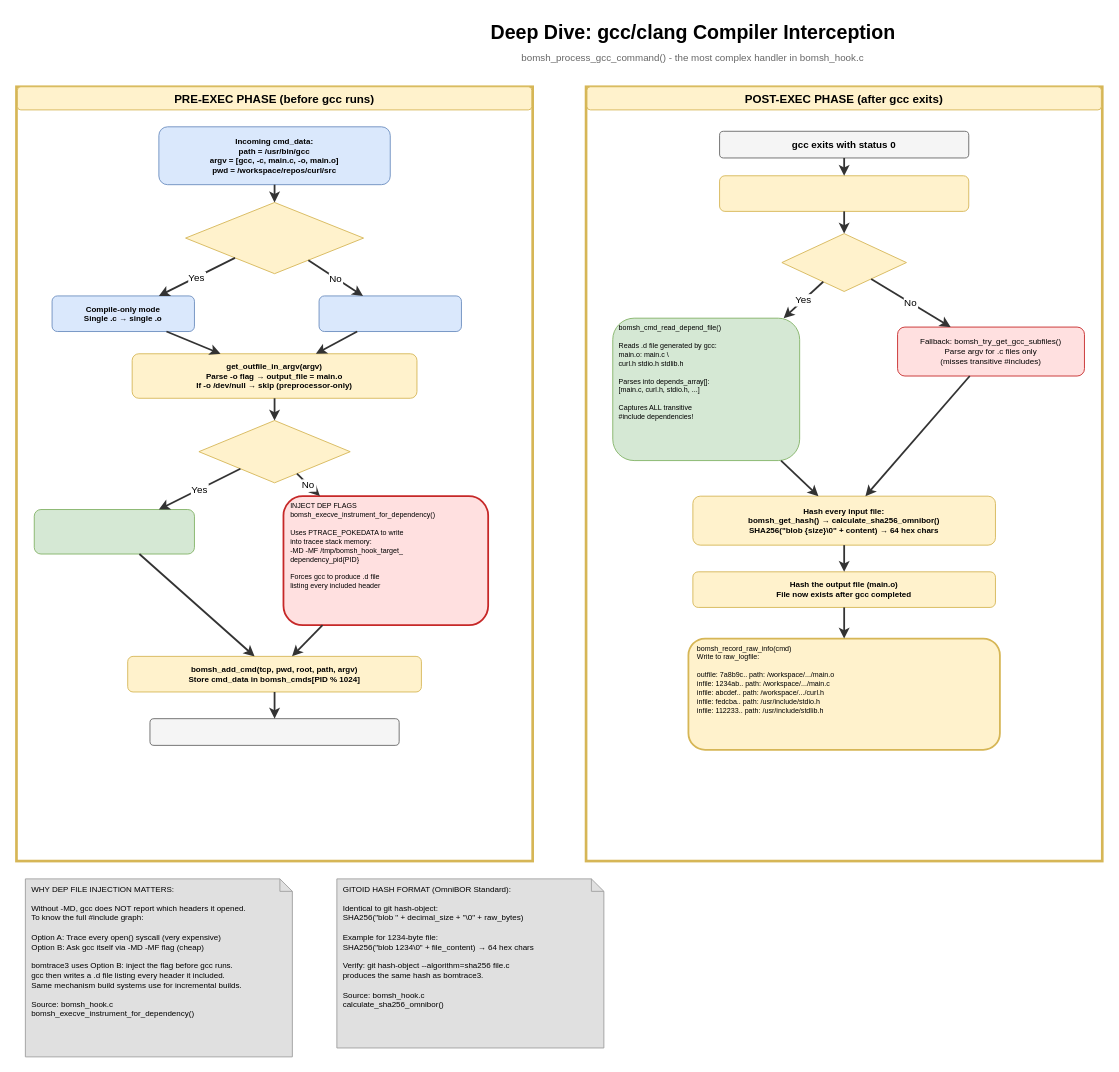
This 1119x1072 diagram has some shape labels left out. Each missing label, with the centre of its shape:
bomsh_remove_cmd(PID) Retrieve stored cmd_data from hash table: pixel 844 193
Dep file will be generated by gcc automatically No modification needed: pixel 113 531
Dependency file exists?: pixel 843 262
Has -MD/-MMD already?: pixel 274 451
Is -c flag in argv? gcc_is_compile_only(): pixel 274 238
Linking mode Multiple .o/.a → binary: pixel 389 313
PTRACE_CONT: gcc runs...: pixel 274 731
